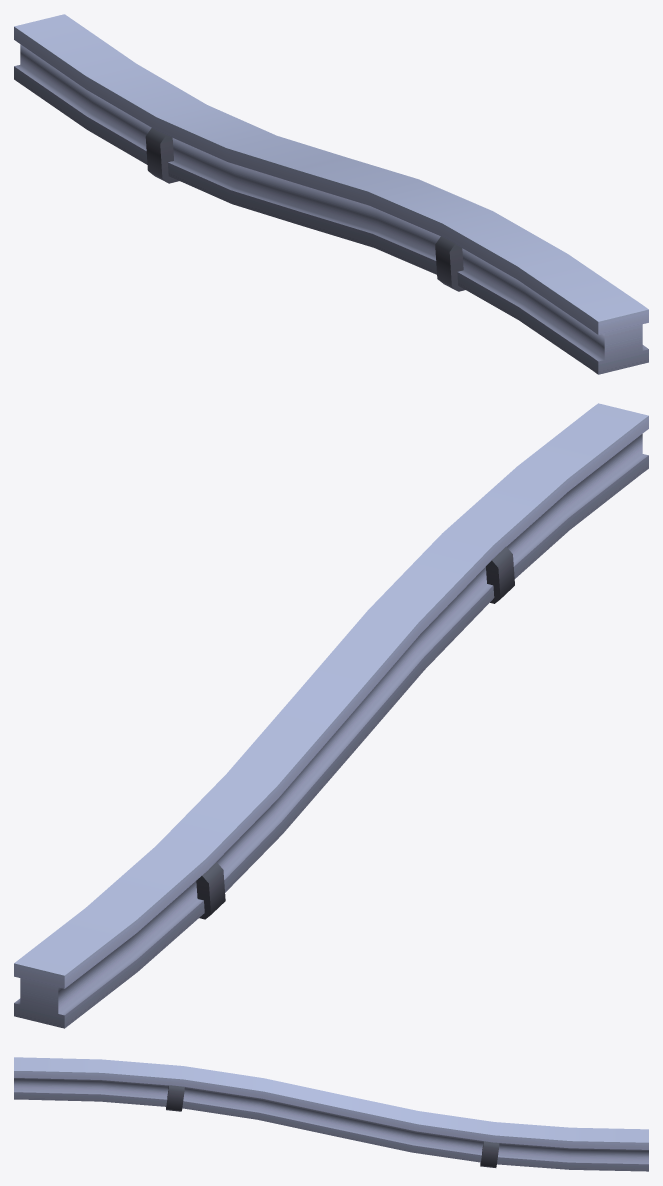
Rendered from coaster-monorail-straight-hill-complete-half.glb.
3 renders of one model, top to bottom at view 1: azimuth 30°, elevation 25°; view 2: azimuth 150°, elevation 25°; view 3: azimuth 270°, elevation 25°, orthographic. The views are drawn at different scales.
Visible parts, largest first — view 1: coaster-monorail-straight-hill-complete-half; view 2: coaster-monorail-straight-hill-complete-half; view 3: coaster-monorail-straight-hill-complete-half.
Part boxes in pixels (x1,y1,x2,y2): coaster-monorail-straight-hill-complete-half: (14,14,648,374); coaster-monorail-straight-hill-complete-half: (14,403,648,1028); coaster-monorail-straight-hill-complete-half: (14,1057,648,1171).
Size of the model in its own units: 0.25 by 0.6997 by 4.
1 material, 1 textured.
